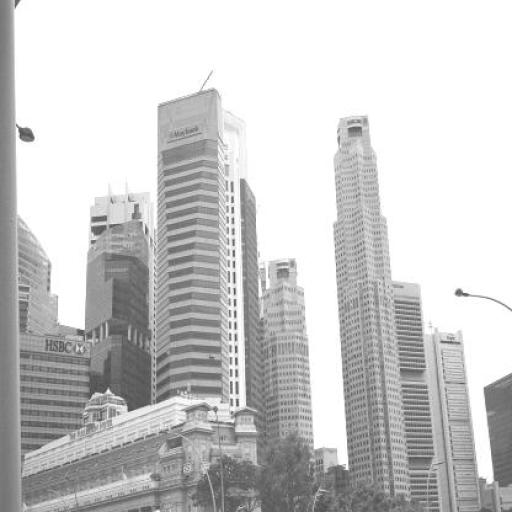street light: (159, 430, 218, 510), (454, 287, 511, 357), (212, 406, 226, 511)
